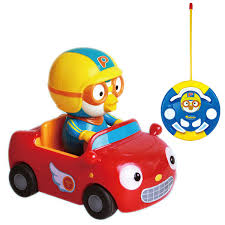frisbee: (49, 47, 123, 115)
motorcycle: (9, 107, 178, 216)
mouse: (9, 166, 34, 193)
person: (7, 43, 174, 212), (38, 46, 130, 147)
stop sign: (159, 84, 220, 140)
traffic light: (5, 122, 70, 202)
